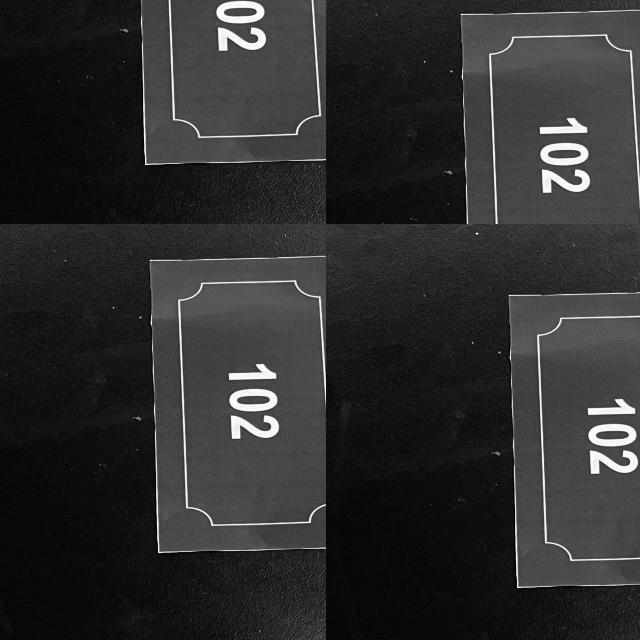Card: (0, 224, 326, 640), (0, 0, 326, 224), (470, 265, 640, 617), (357, 0, 609, 33)
